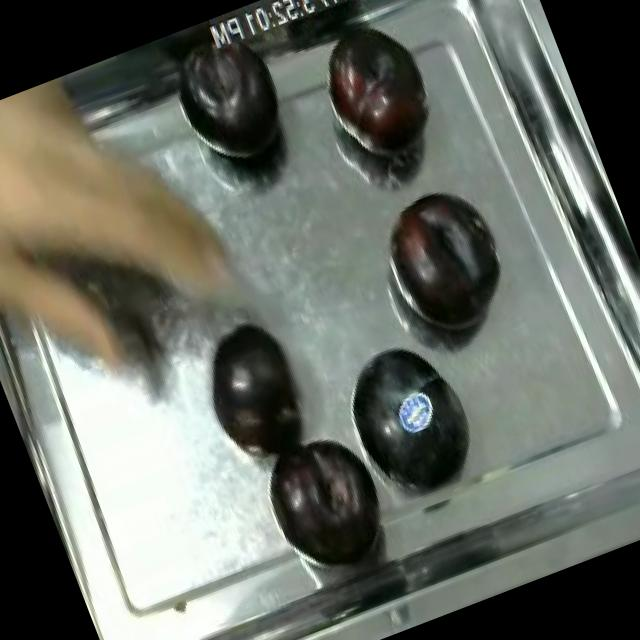Fruit: (140, 4, 316, 198), (325, 318, 495, 511), (298, 0, 455, 180), (367, 172, 519, 350), (180, 304, 329, 480), (252, 415, 404, 578)
